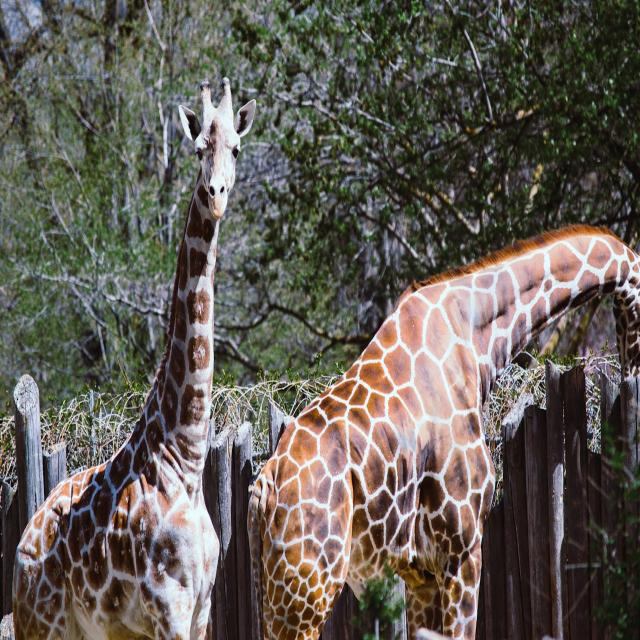Giraffe: (246, 220, 640, 640), (14, 75, 258, 640)
